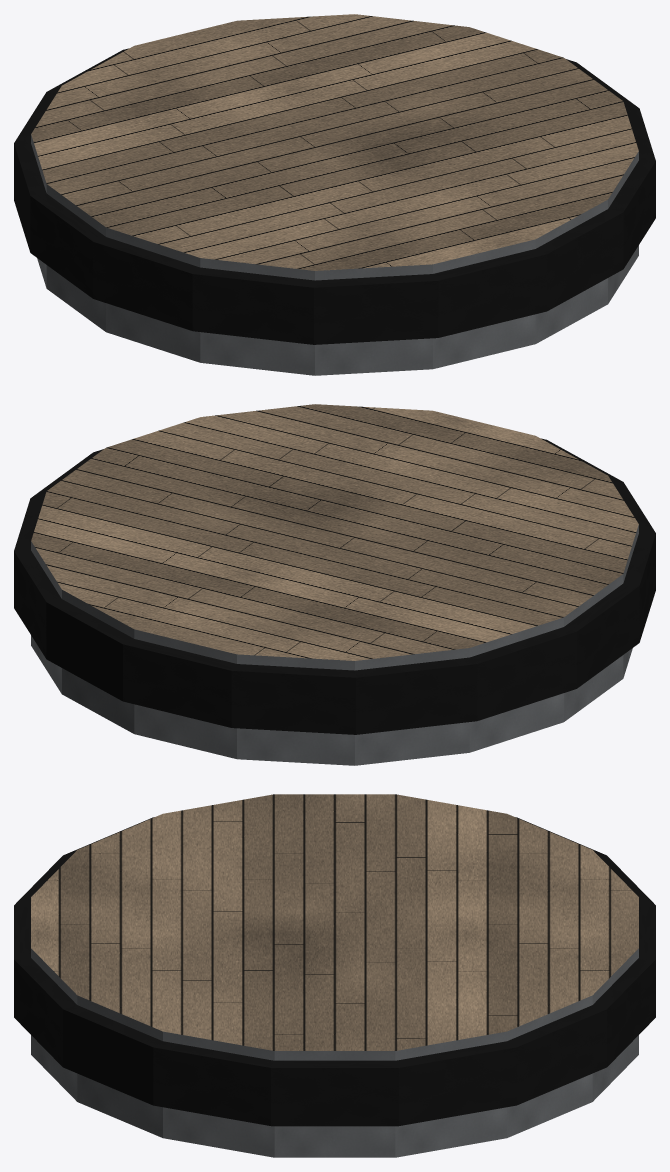
The model's file is SM_Morin_Marina_Raccordo.fbx.
3 renders of one model, top to bottom at view 1: azimuth 30°, elevation 25°; view 2: azimuth 150°, elevation 25°; view 3: azimuth 270°, elevation 25°, orthographic.
Parts seen in each view (by area): view 1: SM_Morin_Marina_Raccordo; view 2: SM_Morin_Marina_Raccordo; view 3: SM_Morin_Marina_Raccordo.
Part boxes in pixels (x1,y1,x2,y2): SM_Morin_Marina_Raccordo: (14,14,655,375); SM_Morin_Marina_Raccordo: (14,404,655,765); SM_Morin_Marina_Raccordo: (14,794,655,1157).
Size of what is drawn, in the model's own units: 300 by 300 by 55.
2 materials, 2 textured.
